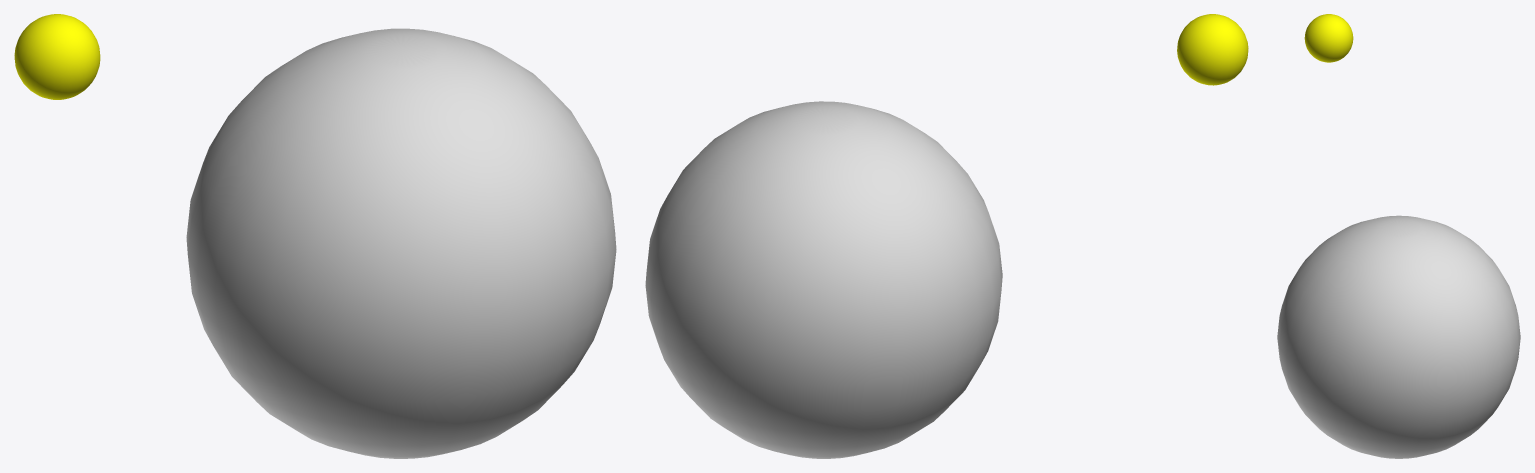
Rendered from Silver_atom.fbx.
3 views of the same model, side by side, from view 1: azimuth 30°, elevation 25°; view 2: azimuth 150°, elevation 25°; view 3: azimuth 270°, elevation 25° (orthographic). The views are drawn at different scales.
Visible parts, largest first — view 1: Sphere.012, Sphere.004; view 2: Sphere.012, Sphere.004; view 3: Sphere.012, Sphere.004.
Part boxes in pixels (bbox=[...]): Sphere.012: bbox=[186, 28, 616, 458]; Sphere.004: bbox=[14, 14, 100, 99]; Sphere.012: bbox=[645, 101, 1002, 458]; Sphere.004: bbox=[1177, 14, 1248, 85]; Sphere.012: bbox=[1277, 215, 1520, 458]; Sphere.004: bbox=[1304, 14, 1353, 62].
Size of the model in its own units: 338 by 290 by 200.
